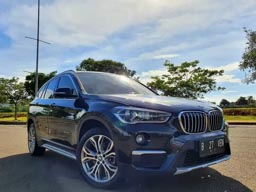plat: (201, 138, 225, 155)
